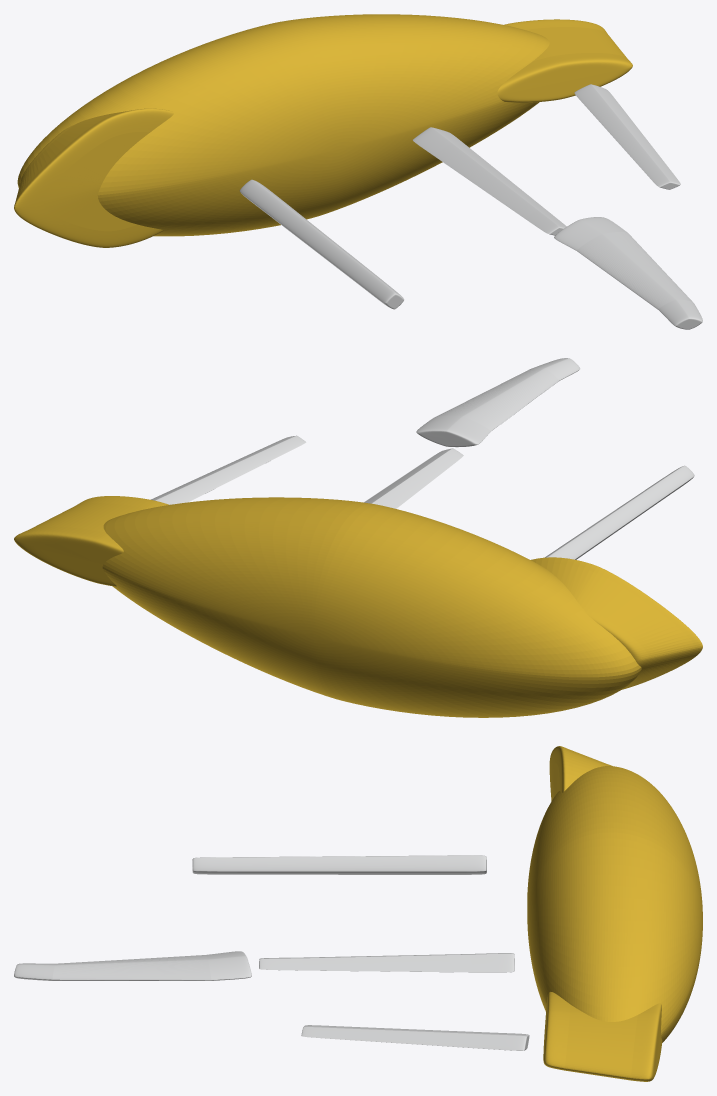
Rendered from 13_sailboat_sq.glb.
The picture shows the model from 3 angles, top to bottom: view 1: azimuth 30°, elevation 25°; view 2: azimuth 150°, elevation 25°; view 3: azimuth 270°, elevation 25°; orthographic projection.
Parts seen in each view (by area): view 1: superquadric_0, superquadric_1, superquadric_6, superquadric_2, superquadric_4, superquadric_3, superquadric_5; view 2: superquadric_0, superquadric_1, superquadric_6, superquadric_2, superquadric_3, superquadric_5, superquadric_4; view 3: superquadric_0, superquadric_6, superquadric_3, superquadric_2, superquadric_4, superquadric_5, superquadric_1.
Boxes of the visible parts, x1,y1,x2,y2 form: superquadric_0: (17,14,549,236); superquadric_1: (14,108,173,247); superquadric_6: (497,19,632,102); superquadric_2: (554,217,702,329); superquadric_4: (413,127,566,235); superquadric_3: (239,179,404,309); superquadric_5: (574,84,680,189); superquadric_0: (102,497,641,717); superquadric_1: (531,557,702,689); superquadric_6: (14,496,169,586); superquadric_2: (416,358,580,447); superquadric_3: (545,465,694,559); superquadric_5: (151,435,305,504); superquadric_4: (364,448,463,508); superquadric_0: (527,766,702,1042); superquadric_6: (543,992,662,1081); superquadric_3: (192,855,486,874); superquadric_2: (14,951,251,980); superquadric_4: (259,953,514,972); superquadric_5: (301,1025,529,1050); superquadric_1: (549,746,612,801).
Bounding box in the file's own units: 1 × 0.2753 × 0.9507.
